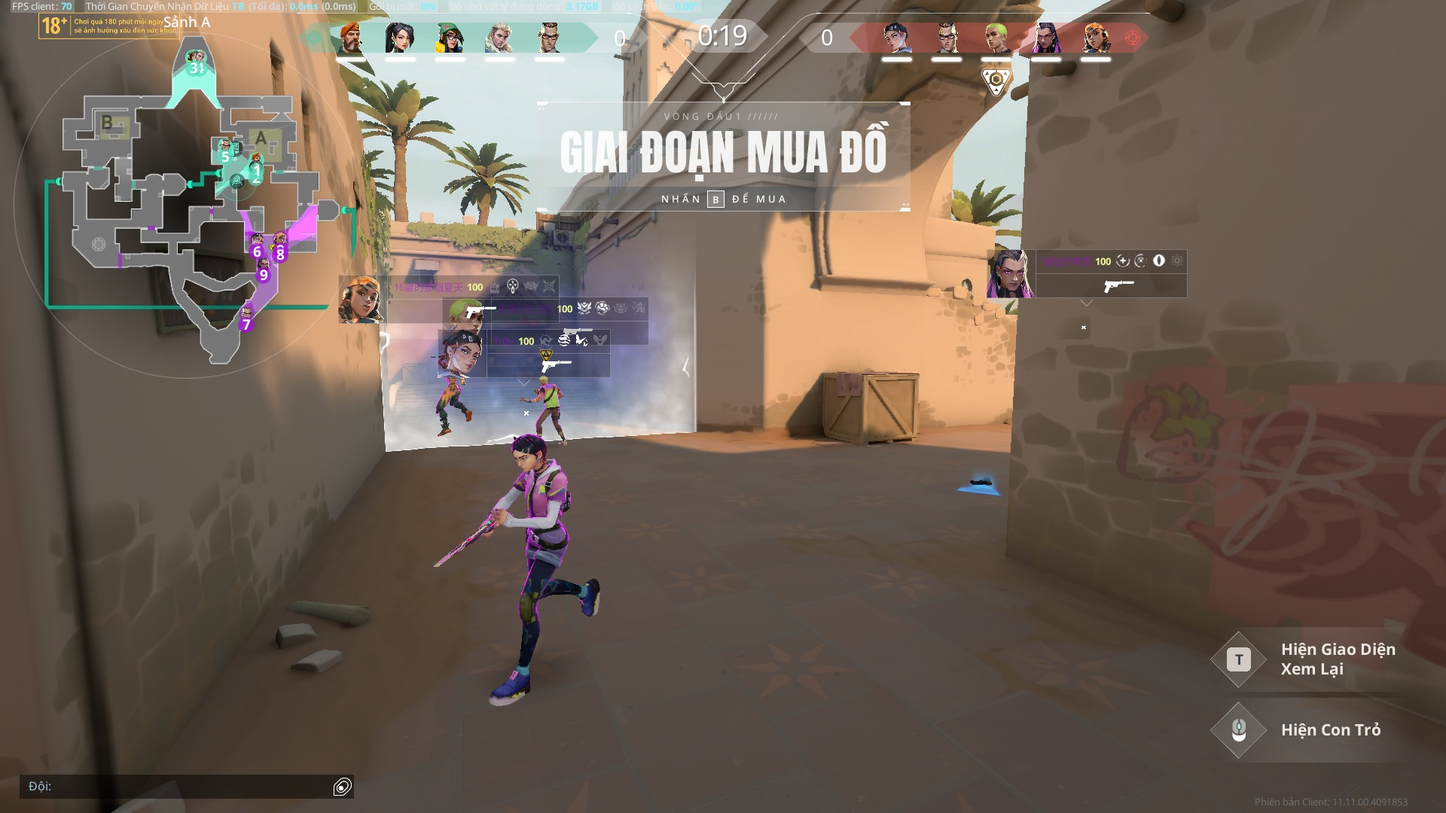body: (517, 467, 567, 540), (541, 382, 565, 410), (443, 369, 459, 388)
head: (509, 434, 548, 470), (539, 374, 548, 384)
